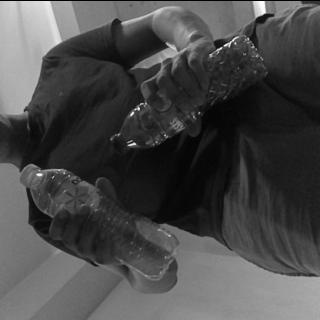plastic_bottles: (18, 163, 180, 281), (109, 36, 268, 154)
